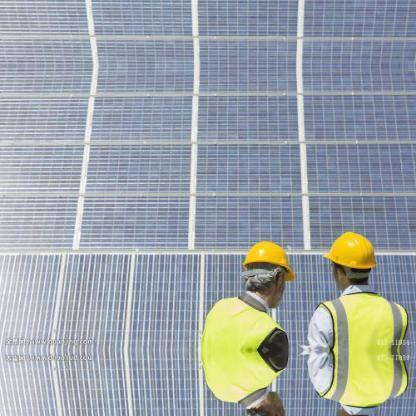helmet: (241, 239, 299, 290), (323, 225, 378, 275)
